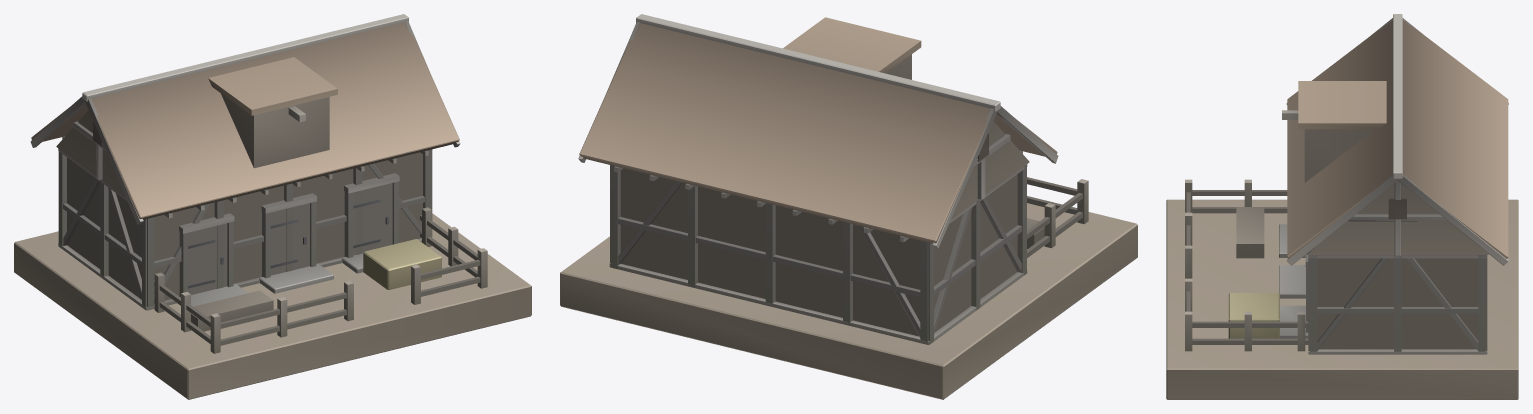
The model's file is stable_l1_lod0.glb.
3 views of the same model, side by side, from view 1: azimuth 30°, elevation 25°; view 2: azimuth 150°, elevation 25°; view 3: azimuth 270°, elevation 25° (orthographic). The views are drawn at different scales.
Parts seen in each view (by area): view 1: stable_l1_lod0; view 2: stable_l1_lod0; view 3: stable_l1_lod0.
Part boxes in pixels (<box>): stable_l1_lod0: <box>14,14,531,399</box>; stable_l1_lod0: <box>560,14,1137,399</box>; stable_l1_lod0: <box>1166,14,1518,399</box>.
Bounding box in the file's own units: 9.8 × 5.98 × 8.6.
